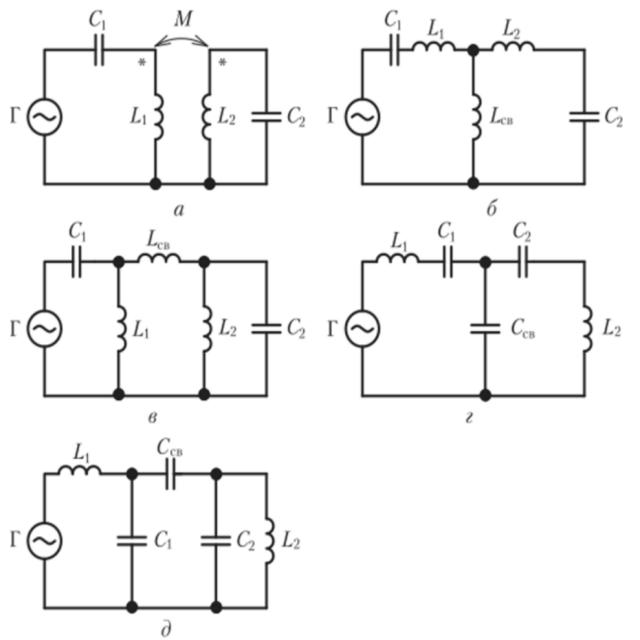cap: (67, 242, 88, 282), (112, 529, 152, 550), (89, 31, 109, 70), (196, 530, 234, 550), (468, 317, 503, 338), (162, 454, 180, 494), (567, 106, 602, 126), (247, 107, 285, 125), (438, 243, 456, 281), (386, 31, 404, 68), (250, 319, 284, 337), (516, 243, 532, 280)
ind: (197, 301, 217, 358), (259, 510, 278, 568), (578, 299, 596, 358), (488, 37, 538, 58), (148, 90, 167, 144), (134, 249, 184, 269), (112, 300, 130, 354), (198, 90, 216, 143), (54, 462, 106, 480), (468, 88, 484, 144), (410, 39, 459, 57), (373, 250, 422, 268)
net: (260, 254, 273, 326), (578, 44, 589, 115), (262, 333, 273, 403), (531, 44, 595, 56), (357, 130, 369, 188), (261, 46, 271, 114), (526, 257, 590, 267), (580, 120, 589, 190), (41, 555, 51, 615), (39, 46, 98, 56), (206, 46, 270, 55), (101, 45, 158, 55), (40, 469, 50, 526), (40, 258, 50, 314), (261, 469, 271, 523), (358, 343, 367, 402), (262, 560, 272, 612), (580, 255, 589, 310), (264, 118, 271, 188), (40, 47, 49, 101), (358, 47, 367, 101), (359, 257, 367, 315), (580, 347, 588, 401), (41, 342, 48, 402), (152, 46, 160, 97), (207, 47, 214, 97), (42, 133, 48, 189), (358, 44, 391, 54), (414, 255, 444, 265), (41, 468, 62, 479)
net_node: (39, 384, 278, 404), (354, 176, 598, 192), (357, 388, 589, 404), (41, 599, 270, 615), (38, 177, 272, 191), (178, 255, 270, 272), (174, 467, 275, 481), (209, 542, 227, 614), (98, 466, 170, 481), (125, 545, 140, 615), (202, 133, 219, 194), (478, 256, 493, 324), (209, 465, 222, 537), (77, 254, 142, 268), (126, 466, 138, 540), (111, 345, 126, 403), (480, 334, 492, 406), (450, 256, 520, 268), (467, 40, 482, 96), (452, 40, 497, 58), (466, 135, 480, 192), (113, 255, 127, 308), (149, 137, 161, 196), (199, 347, 211, 405), (198, 252, 210, 309)
source: (24, 308, 66, 349), (25, 520, 66, 560), (342, 96, 382, 137), (25, 96, 64, 138), (344, 307, 382, 349)
